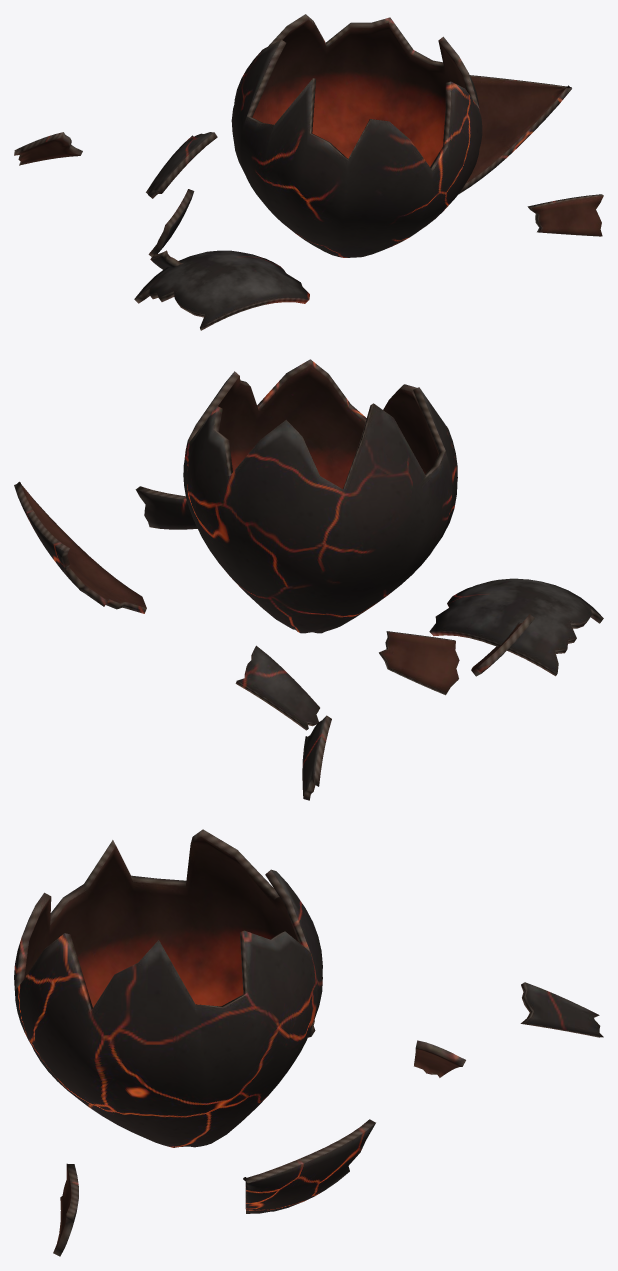
Rendered from b4p_egg_shells.glb.
The picture shows the model from 3 angles, top to bottom: view 1: azimuth 30°, elevation 25°; view 2: azimuth 150°, elevation 25°; view 3: azimuth 270°, elevation 25°; orthographic projection. The views are drawn at different scales.
Parts seen in each view (by area): view 1: b4p_egg_shells; view 2: b4p_egg_shells; view 3: b4p_egg_shells.
Part boxes in pixels (x1=…): b4p_egg_shells: x1=14, y1=14, x2=603, y2=330; b4p_egg_shells: x1=14, y1=359, x2=603, y2=800; b4p_egg_shells: x1=14, y1=829, x2=603, y2=1256.
Bounding box in the file's own units: 1.33 × 0.5977 × 1.18.
1 material, 1 textured.
